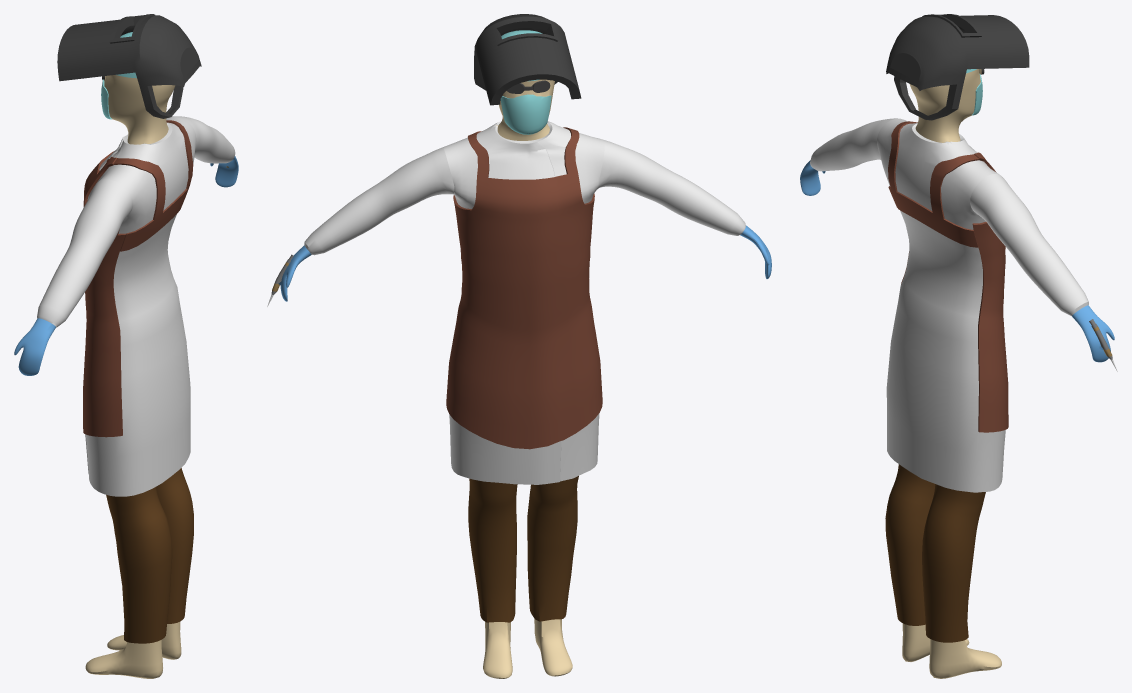
Rendered from mad_doctor_modle.fbx.
3 views of the same model, side by side, from view 1: azimuth 30°, elevation 25°; view 2: azimuth 150°, elevation 25°; view 3: azimuth 270°, elevation 25° (orthographic).
Visible parts, largest first — view 1: Human, Human.001; view 2: Human, Human.001; view 3: Human, Human.001.
Boxes of the visible parts, x1,y1,x2,y2 form: Human: (14, 32, 238, 678); Human.001: (57, 14, 201, 118); Human: (267, 30, 771, 678); Human.001: (474, 14, 581, 105); Human: (800, 69, 1117, 678); Human.001: (886, 14, 1029, 120).
Size of the model in its own units: 119 by 204 by 90.89.
